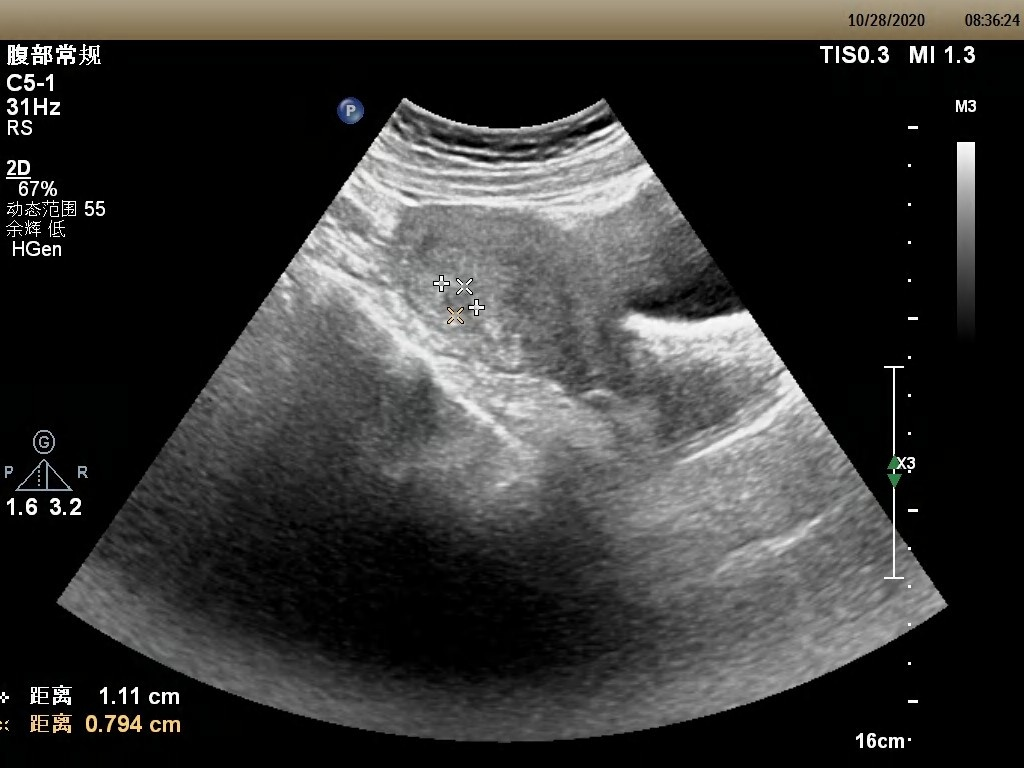肌瘤: (442, 280, 475, 317)
